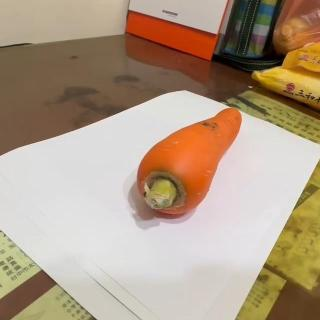carrot: (137, 108, 243, 216)
